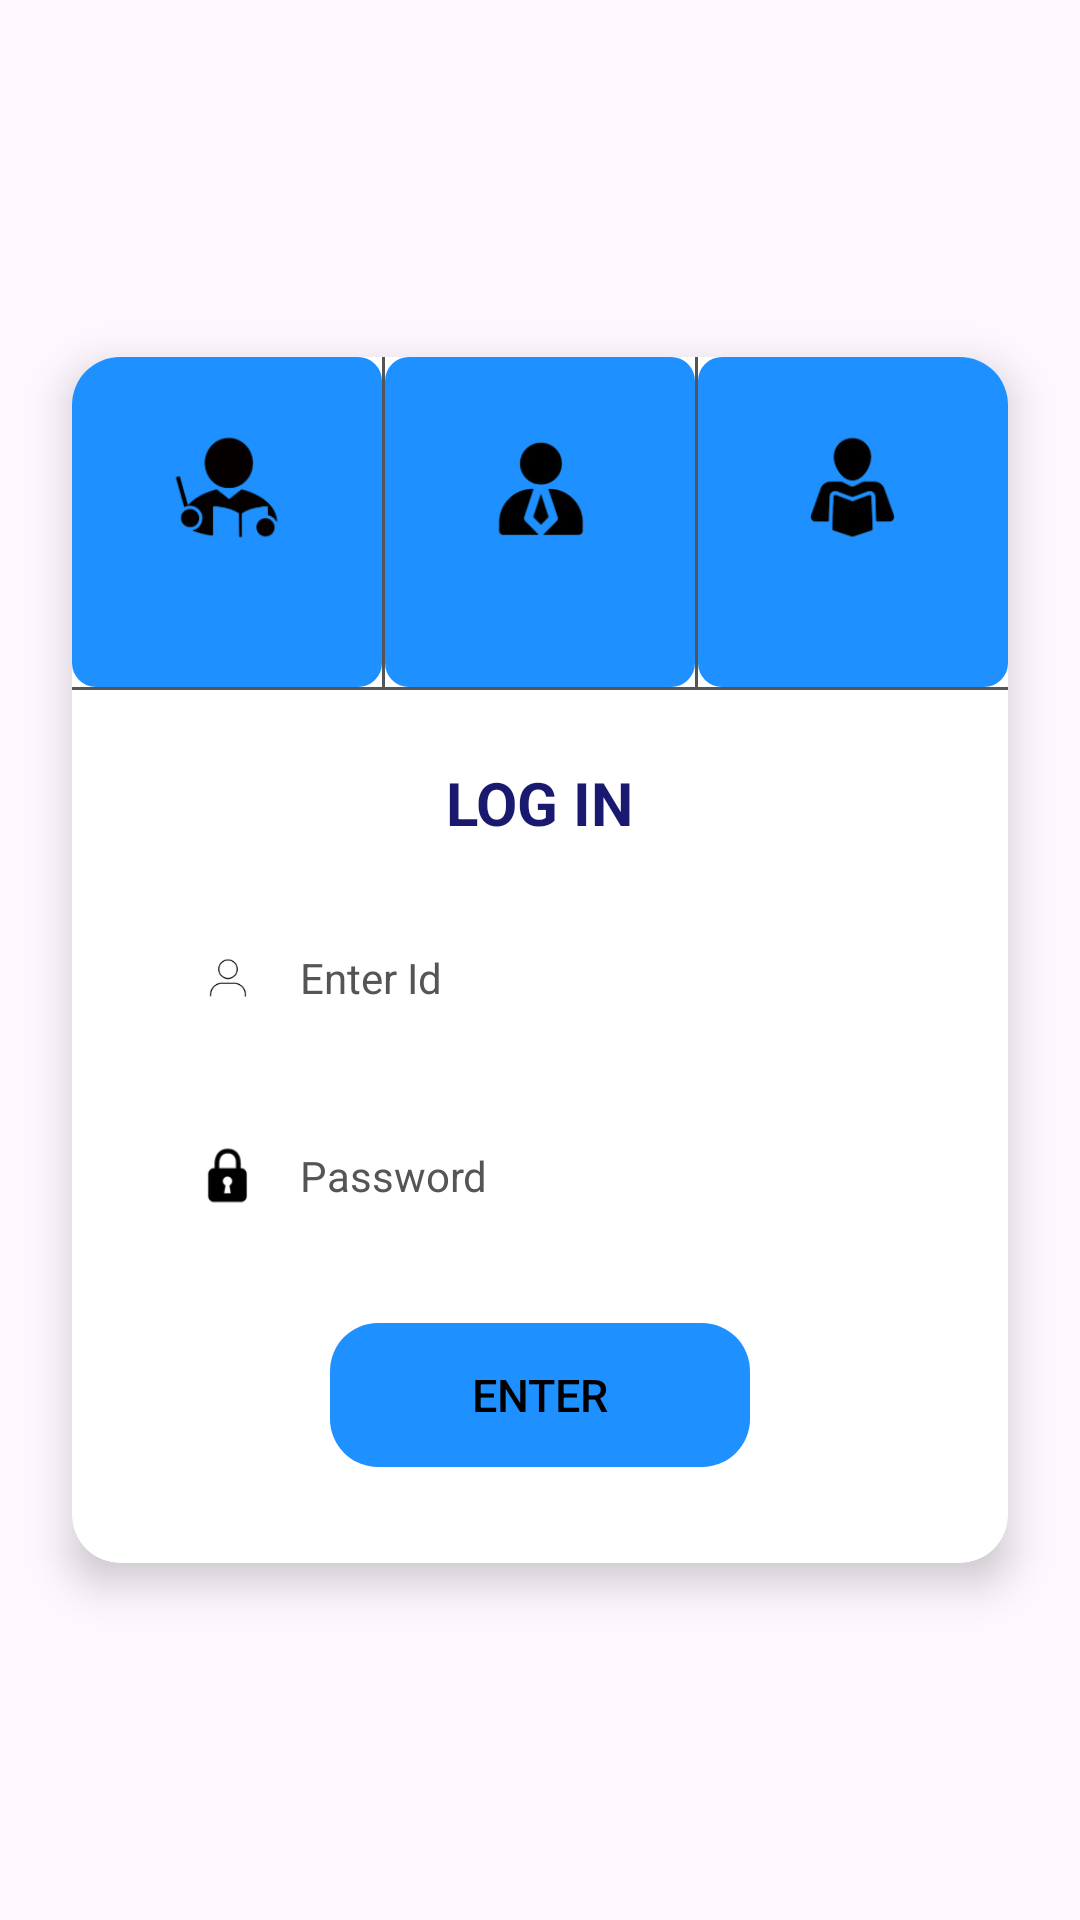

Named icons in this screenshot (1080 × 1920) and their bounding boxes, (left=x1, top=y1, right=x2, bottom=y2):
username: (left=210, top=959, right=246, bottom=997)
